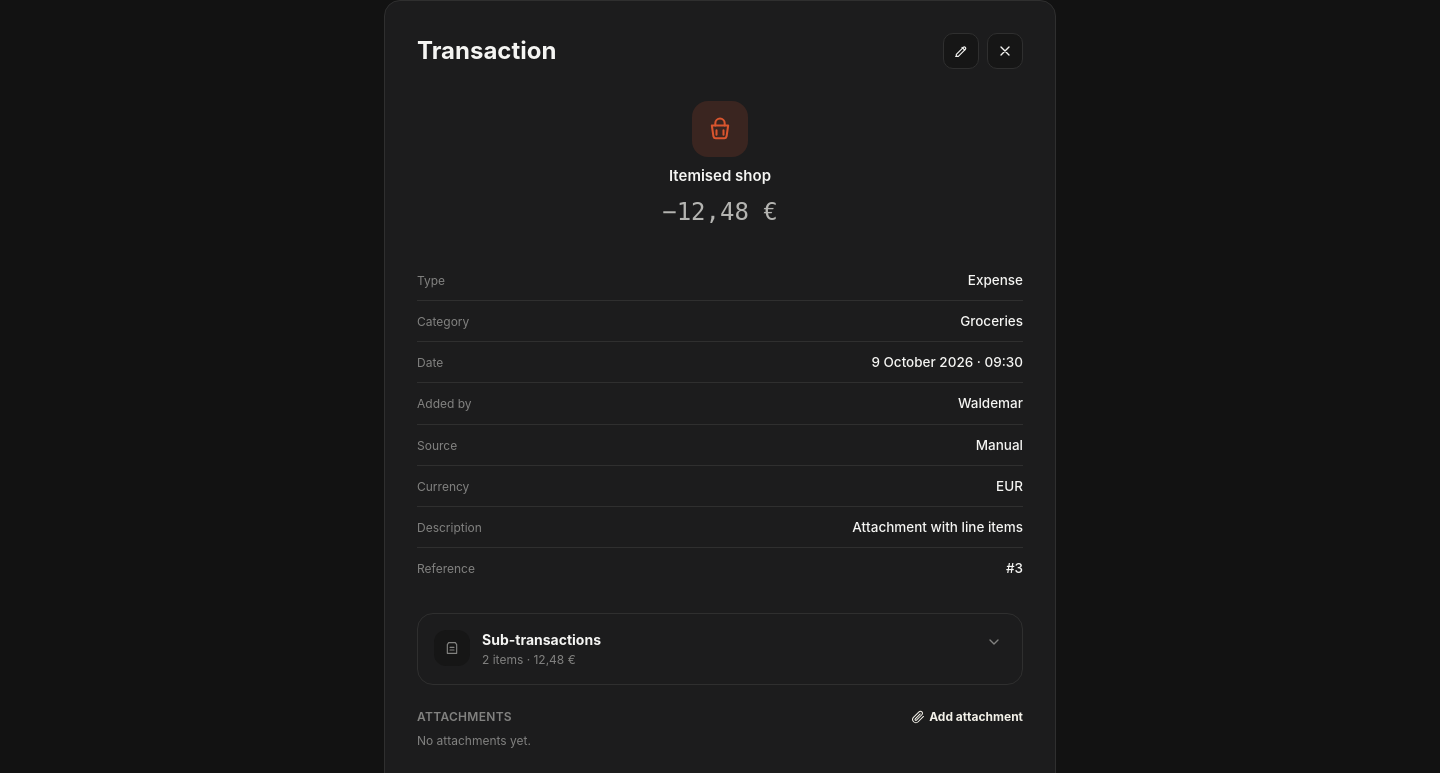
it: TransactionDetailPage › line items in edit mode › adds a line item with a POST to the sub-transaction route and refetches the transaction
expect the text "Itemised shop" is shown: met, box top-left (669, 165), bottom-right (771, 188)
Click the button named "Edit". click: (961, 51)
box: top-left (943, 33), bottom-right (979, 69)
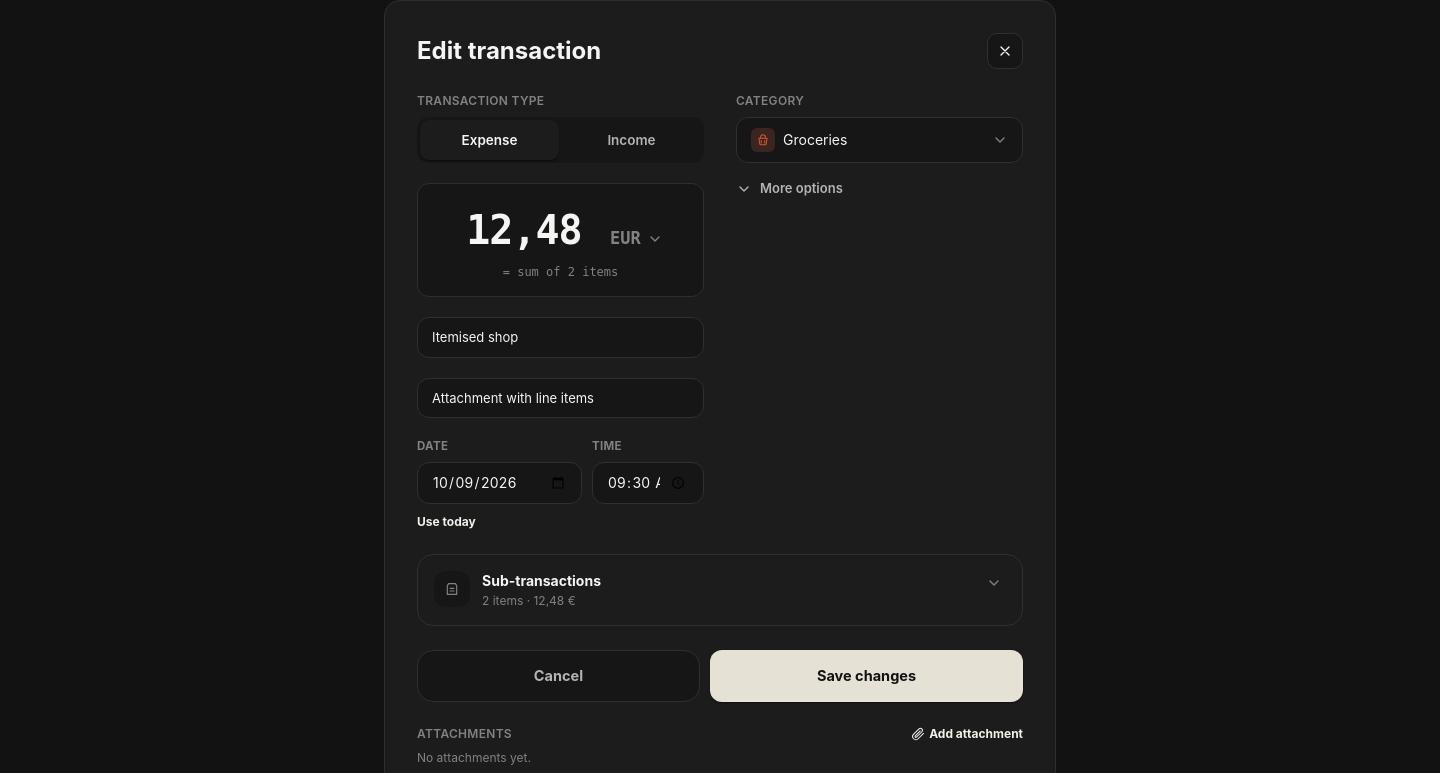
expect the field labelled "Amount" is not shown: met
expect the text "= sum of 2 items" is shown: met, box top-left (503, 265), bottom-right (618, 279)
Click the button with aria-label "Expand sub-transactions". click: (452, 589)
box: top-left (430, 567), bottom-right (1006, 613)
(page scrolled)
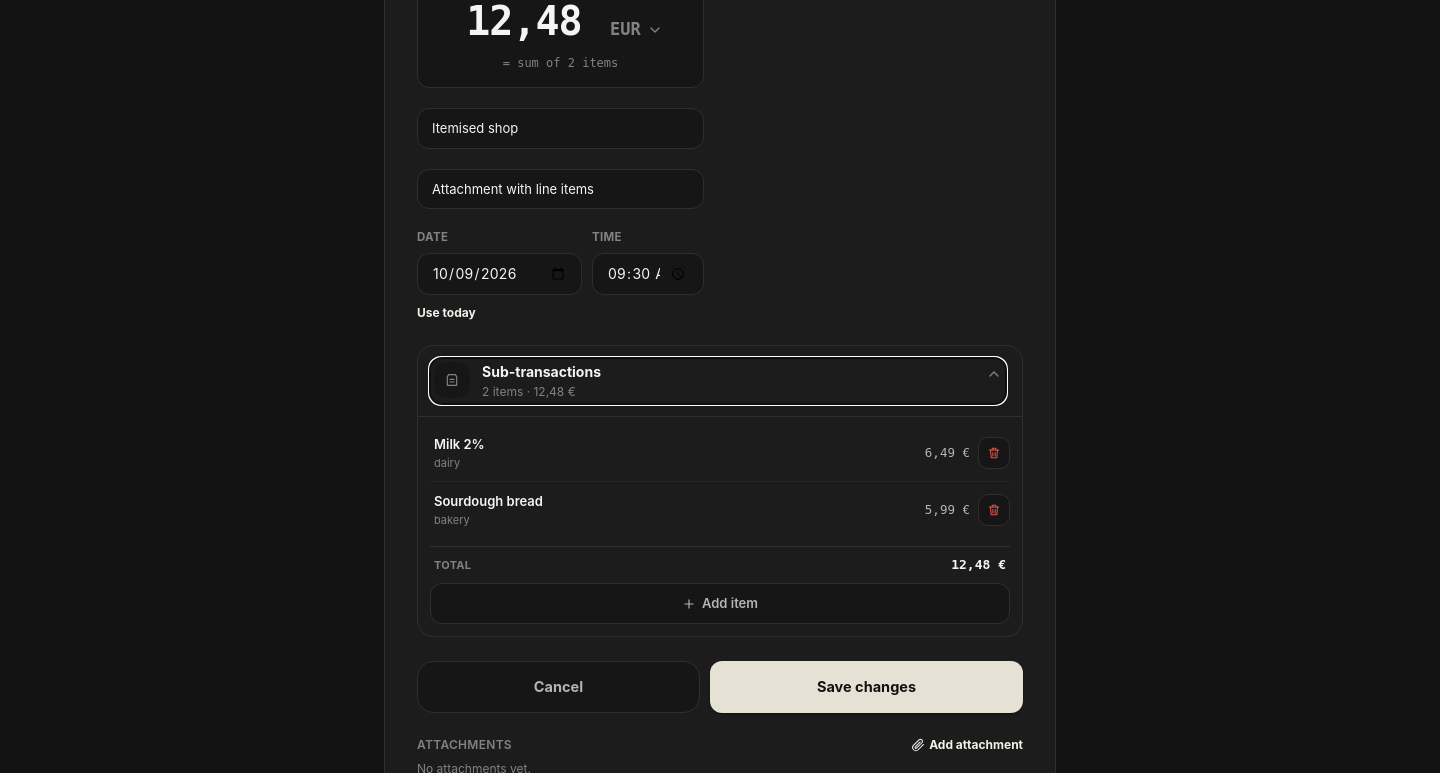
Click the button with aria-label "Add sub-transaction". click: (720, 604)
box: top-left (430, 583), bottom-right (1010, 624)
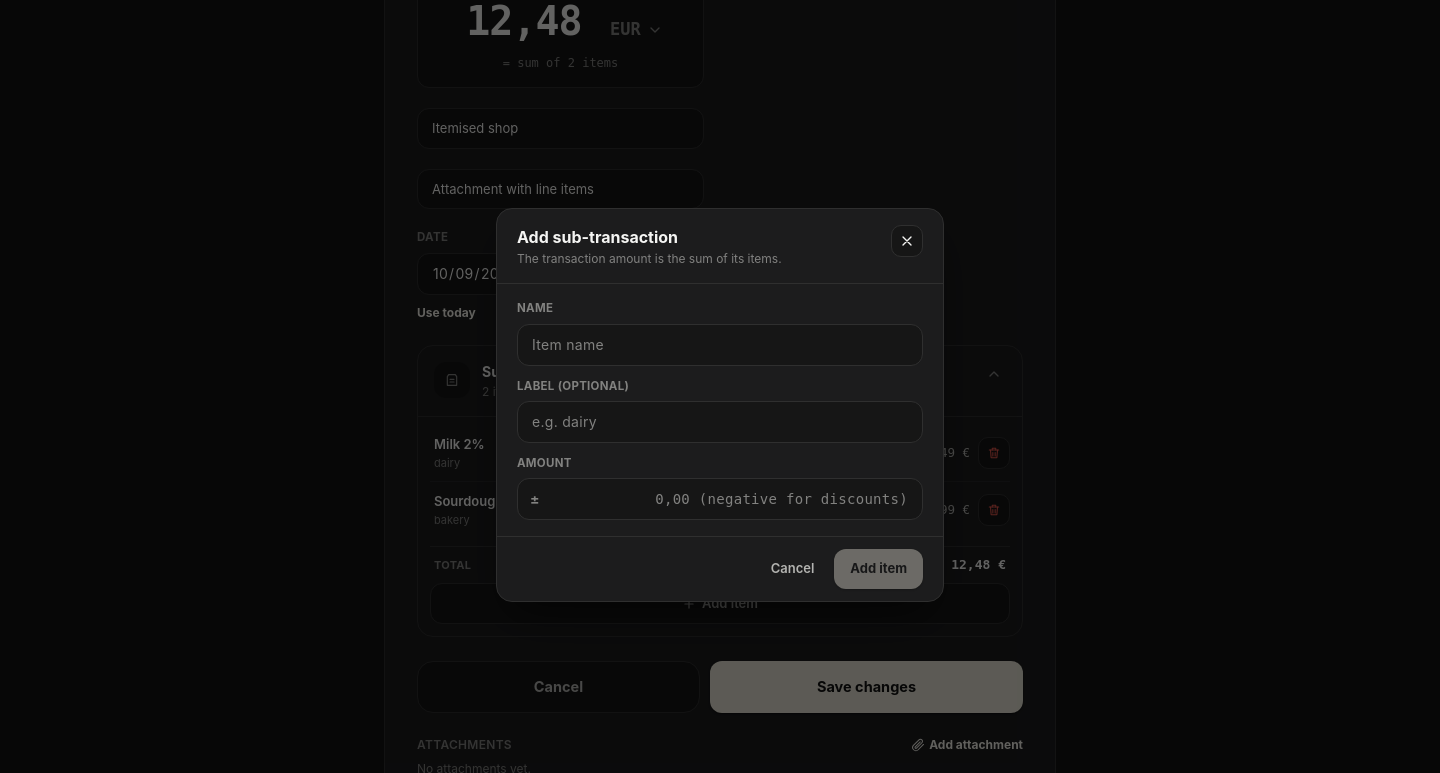
Type "Coffee" into the field named "Sub-transaction name". click: (720, 345)
box: top-left (517, 324), bottom-right (923, 366)
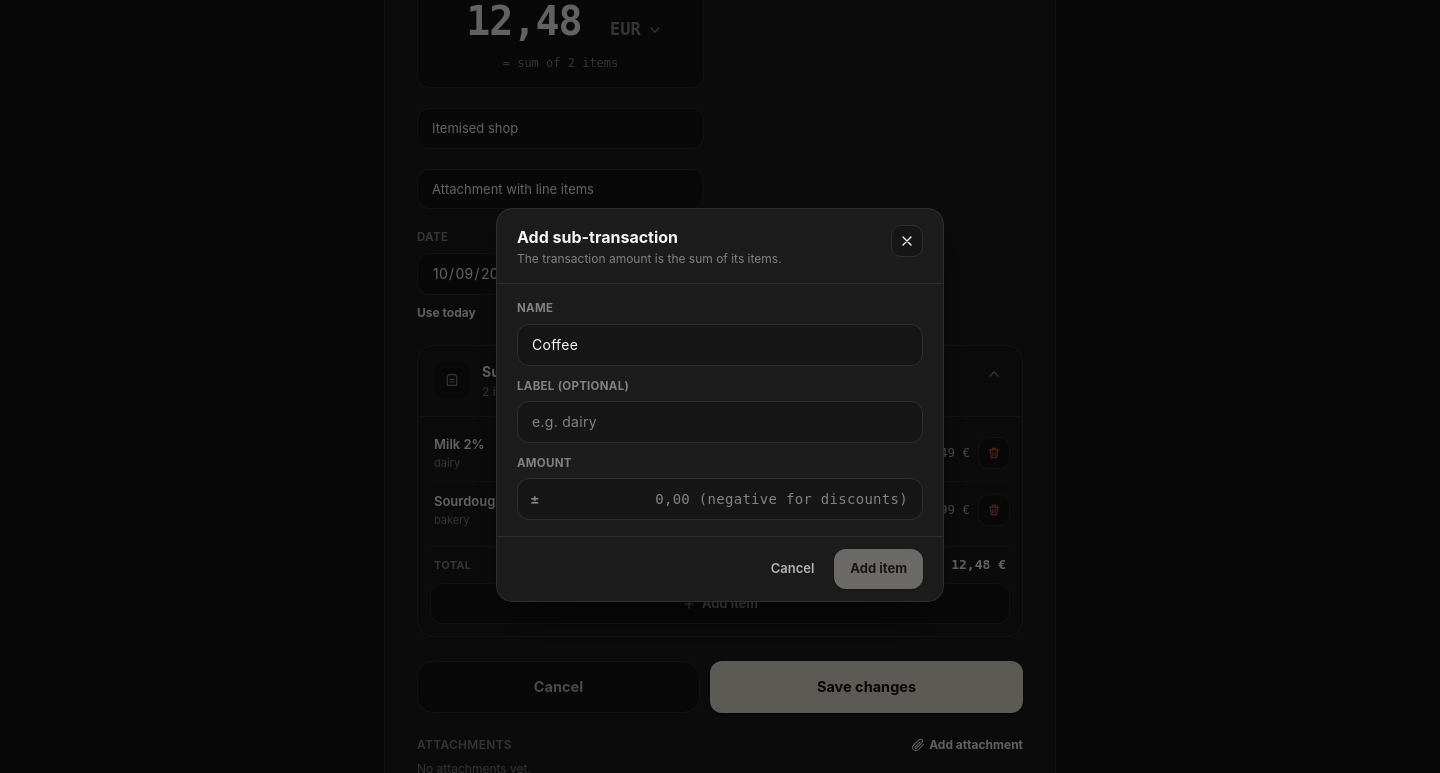
Type "2,50" into the field named "Sub-transaction amount". click: (720, 499)
box: top-left (517, 478), bottom-right (923, 520)
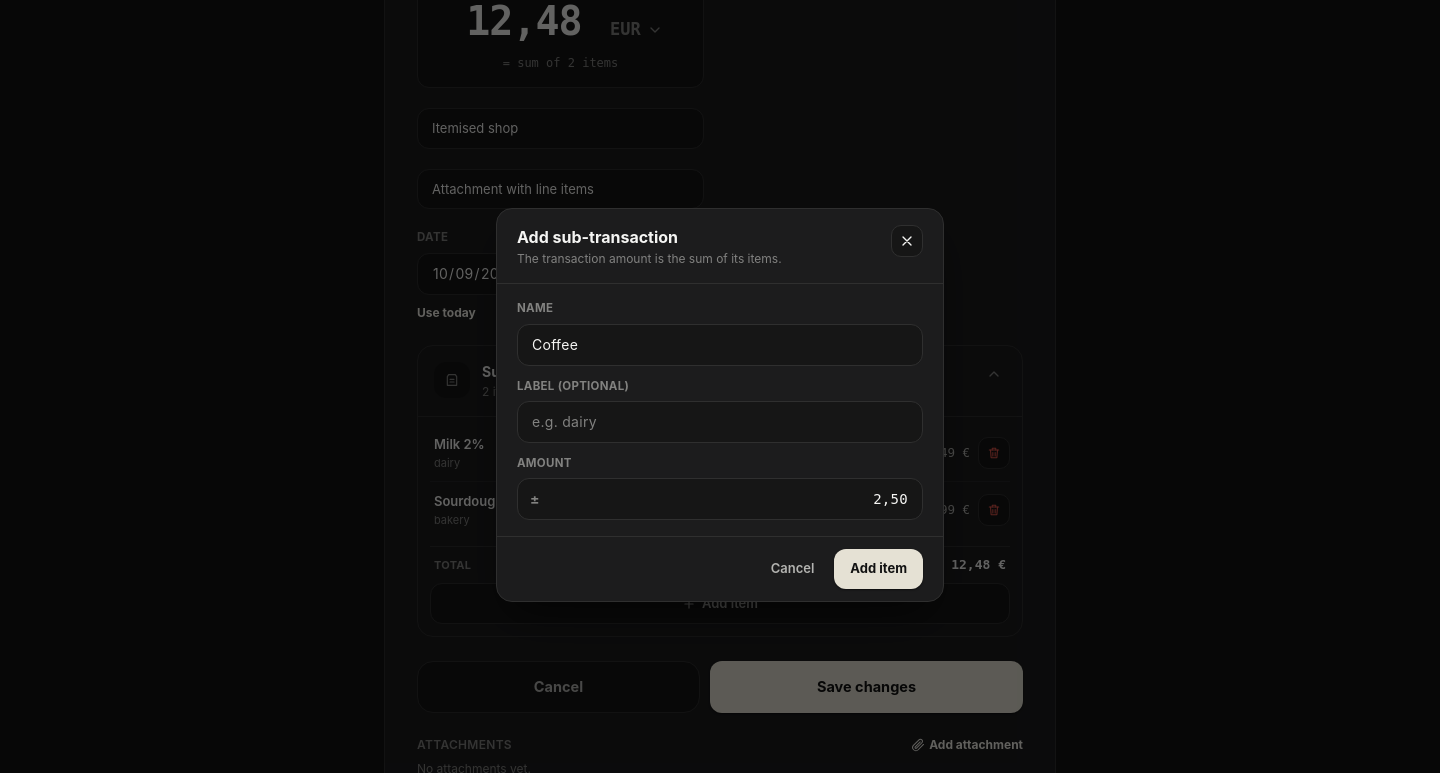
Click the button "Add item". click: (879, 569)
box: top-left (834, 549), bottom-right (923, 589)
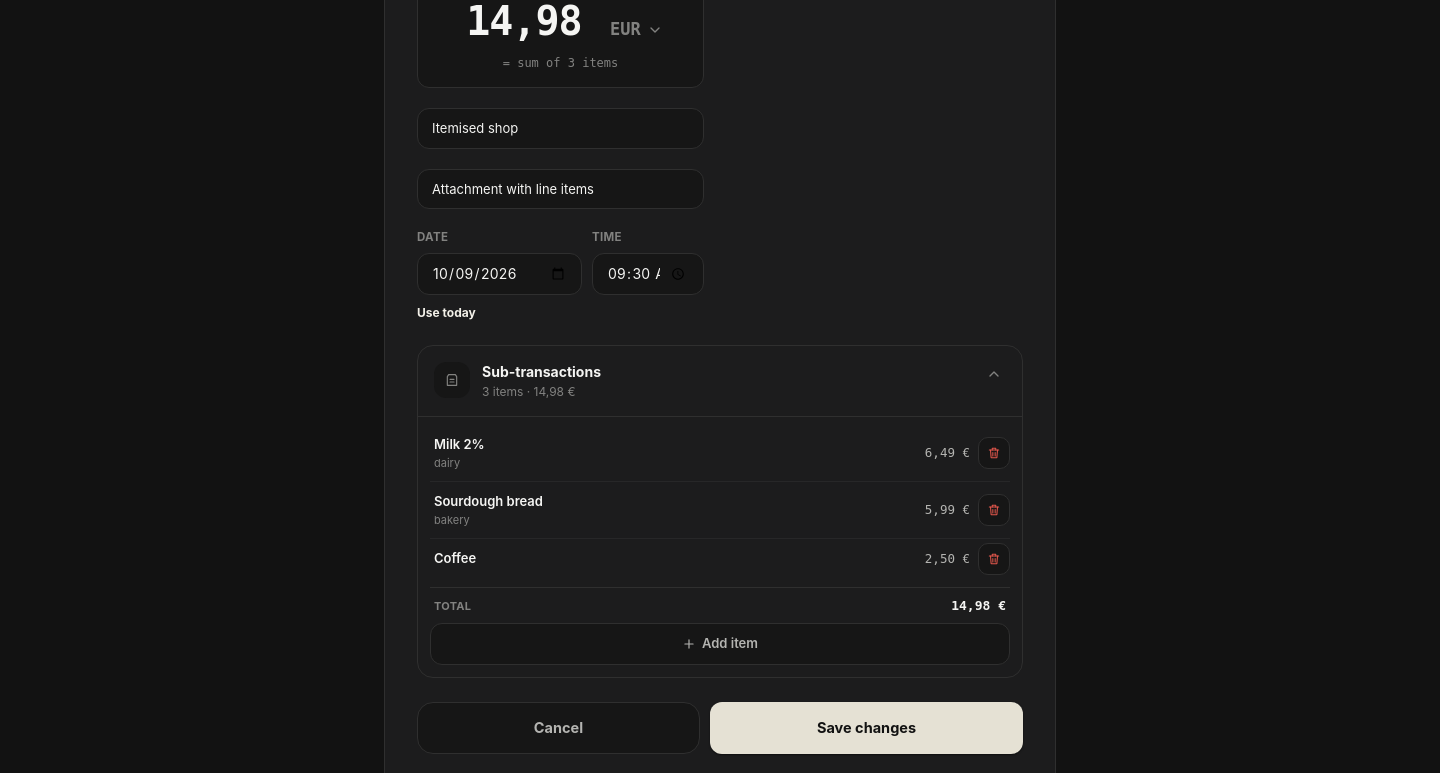
expect the text "Coffee" is shown: met, box top-left (434, 550), bottom-right (476, 566)
expect the text "= sum of 3 items" is shown: met, box top-left (503, 56), bottom-right (618, 70)
expect the text "3 items · 14,98 €" is shown: met, box top-left (482, 384), bottom-right (575, 399)
